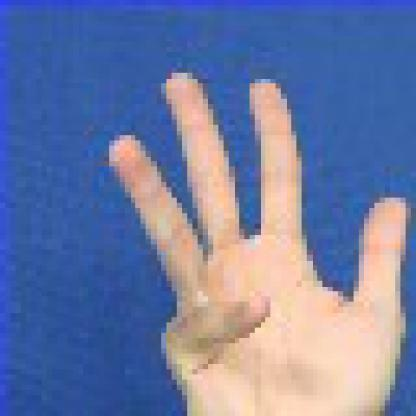nine: (43, 24, 415, 415)
